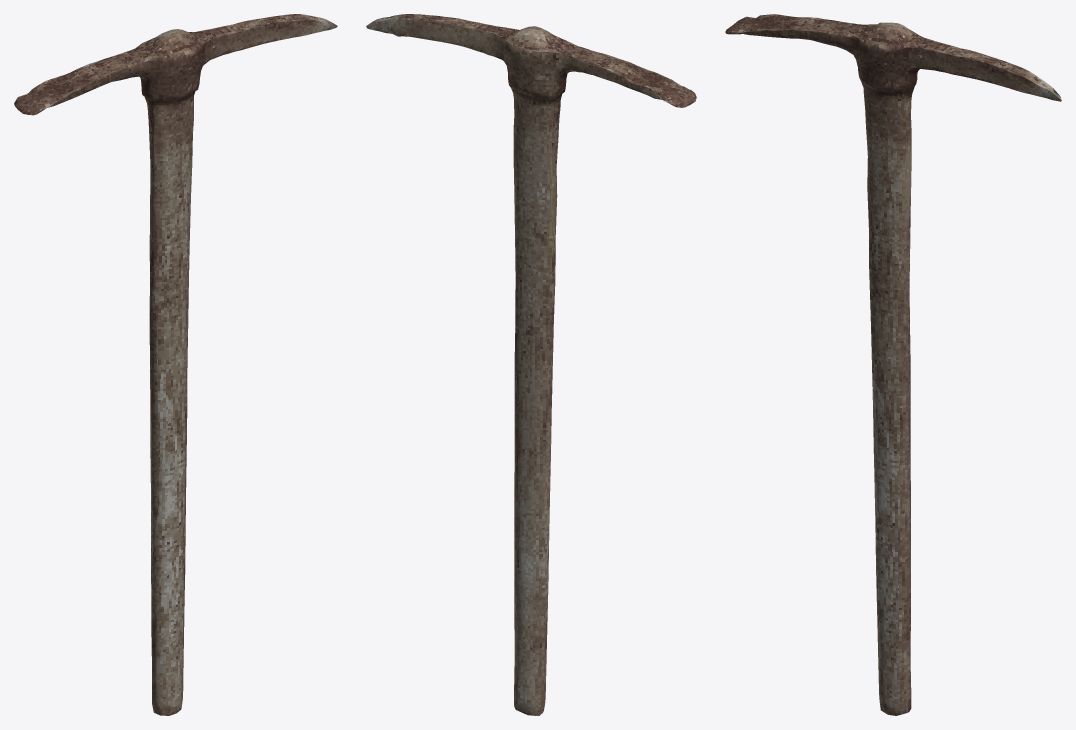
File: picke_dirty_01.glb
3 renders of one model, left to right at view 1: azimuth 30°, elevation 25°; view 2: azimuth 150°, elevation 25°; view 3: azimuth 330°, elevation 25°, orthographic.
Parts seen in each view (by area): view 1: body; view 2: body; view 3: body.
Boxes of the visible parts, box(x1,y1,x2,y2) form: body: box(14, 14, 337, 715); body: box(366, 14, 696, 715); body: box(725, 14, 1061, 715).
Size of the model in its own units: 0.5518 by 1.12 by 0.0691.
Materials: 1 (1 with a texture image).
